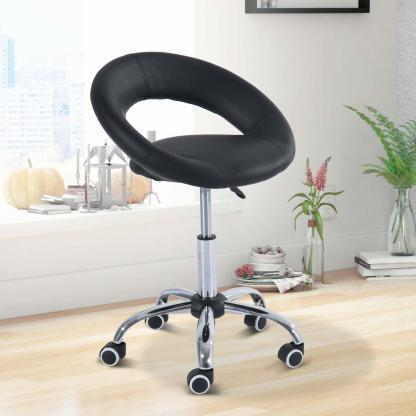chair: (75, 44, 339, 400)
